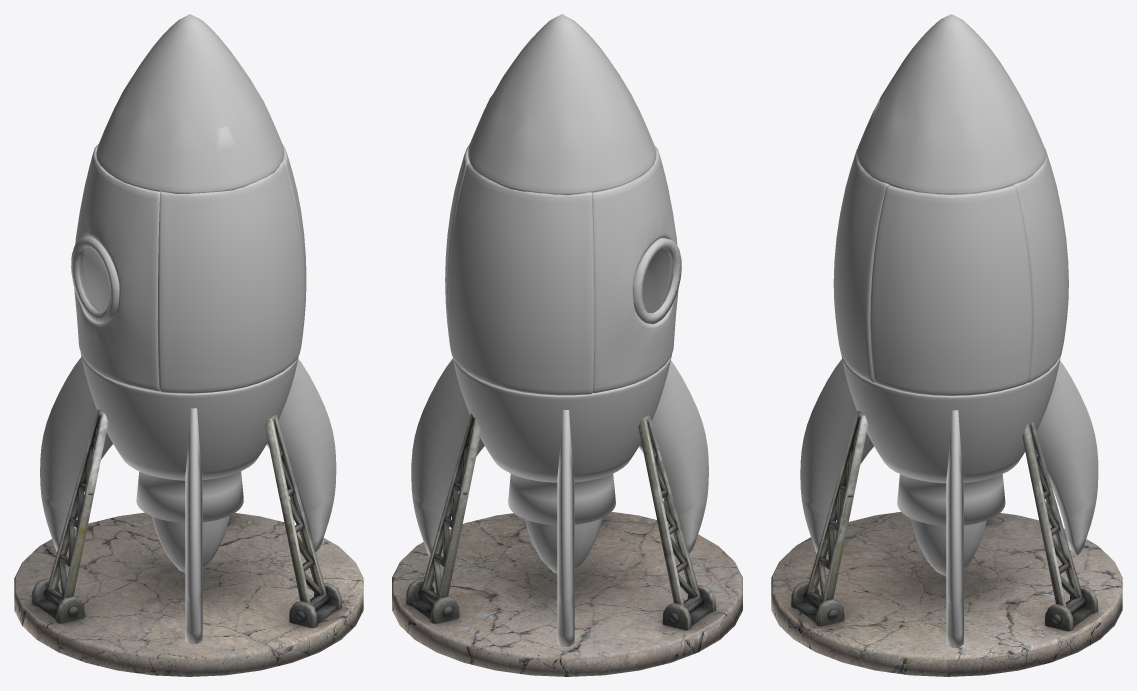
File: cartoon_rocket.obj
3 views of the same model, side by side, from view 1: azimuth 30°, elevation 25°; view 2: azimuth 150°, elevation 25°; view 3: azimuth 270°, elevation 25° (orthographic).
Visible parts, largest first — view 1: rocket_bottom_part, Start_point_base, Start_point_holder_2, Start_point_holder_3, flame_cone, wash_mashine_door, glass; view 2: rocket_bottom_part, Start_point_base, Start_point_holder_2, Start_point_holder_1, wash_mashine_door, flame_cone, glass; view 3: rocket_bottom_part, Start_point_base, Start_point_holder_3, Start_point_holder_1, flame_cone.
Part boxes in pixels (x1,y1,x2,y2): rocket_bottom_part: (40, 14, 336, 643); Start_point_base: (14, 512, 363, 676); Start_point_holder_2: (44, 409, 108, 616); Start_point_holder_3: (265, 414, 329, 620); flame_cone: (151, 515, 229, 572); wash_mashine_door: (71, 237, 119, 322); glass: (79, 247, 109, 311); rocket_bottom_part: (411, 14, 708, 646); Start_point_base: (392, 511, 742, 676); Start_point_holder_2: (638, 415, 703, 622); Start_point_holder_1: (418, 413, 481, 616); wash_mashine_door: (633, 238, 681, 323); flame_cone: (524, 517, 602, 573); glass: (642, 249, 673, 313); rocket_bottom_part: (800, 14, 1098, 647); Start_point_base: (771, 512, 1122, 676); Start_point_holder_3: (803, 411, 868, 619); Start_point_holder_1: (1022, 422, 1085, 623); flame_cone: (910, 518, 986, 576).
Size of the model in its own units: 263 by 484 by 261.
